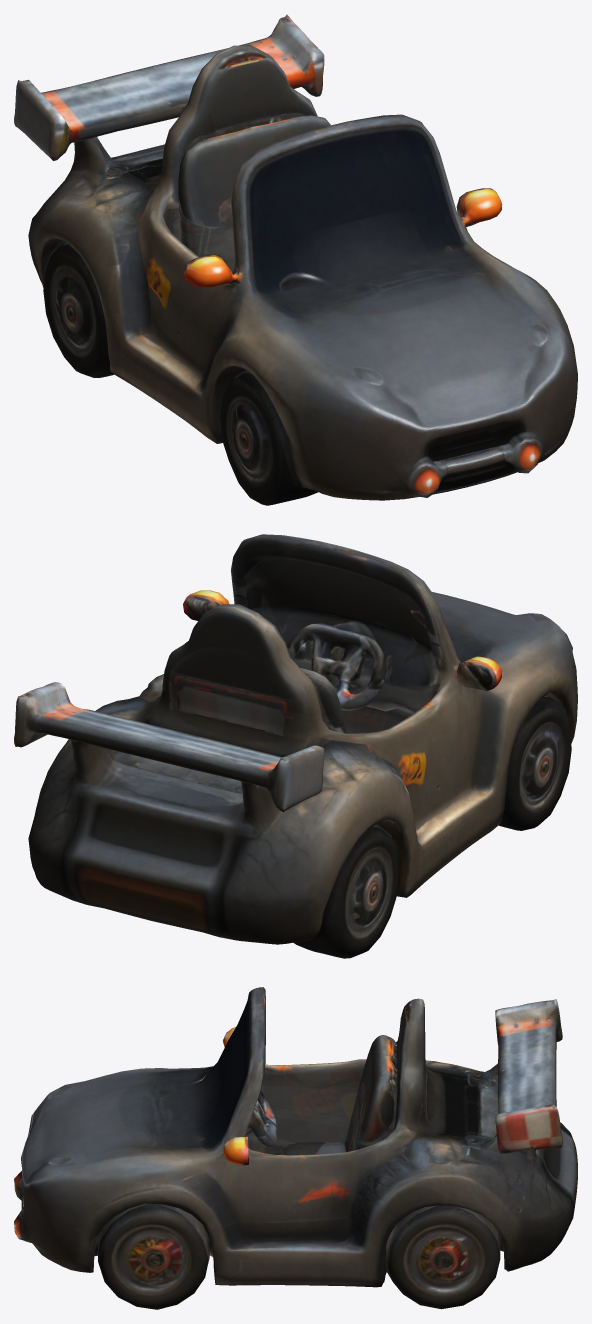
The model's file is Dark Horse.fbx.
The picture shows the model from 3 angles, top to bottom: view 1: azimuth 30°, elevation 25°; view 2: azimuth 150°, elevation 25°; view 3: azimuth 270°, elevation 25°; orthographic projection. The views are drawn at different scales.
Visible parts, largest first — view 1: Mesh1_Mesh1.032; view 2: Mesh1_Mesh1.032; view 3: Mesh1_Mesh1.032.
Boxes of the visible parts, <box> form: Mesh1_Mesh1.032: <box>14,14,577,505</box>; Mesh1_Mesh1.032: <box>14,534,577,958</box>; Mesh1_Mesh1.032: <box>14,987,577,1309</box>.
Size of the model in its own units: 106 by 97.83 by 199.
1 material, 1 textured.
